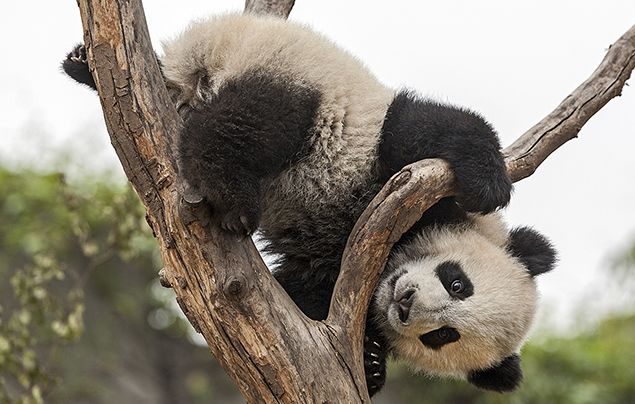Giant panda: (371, 218, 559, 392)
